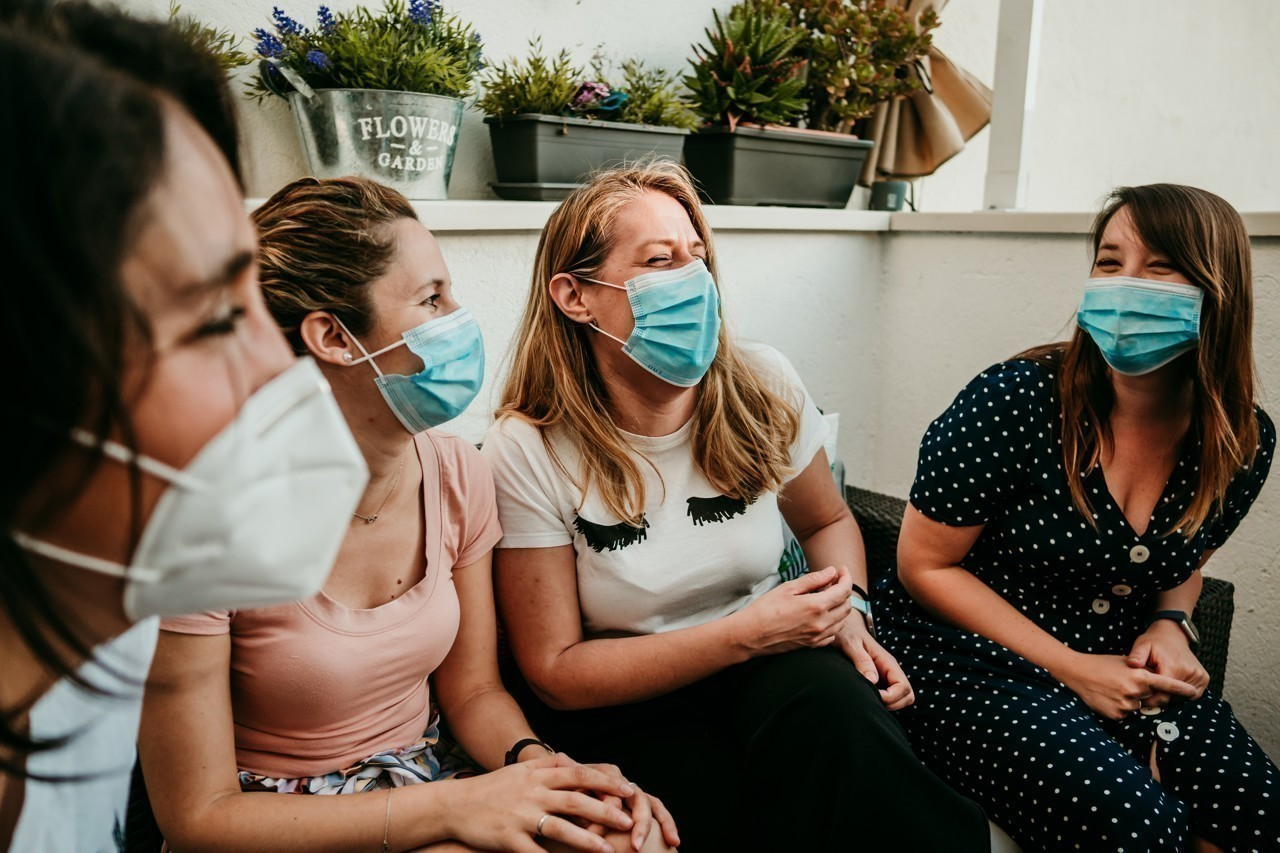with_mask: (63, 107, 333, 625), (336, 191, 496, 442), (589, 201, 740, 393), (1078, 227, 1207, 381)
